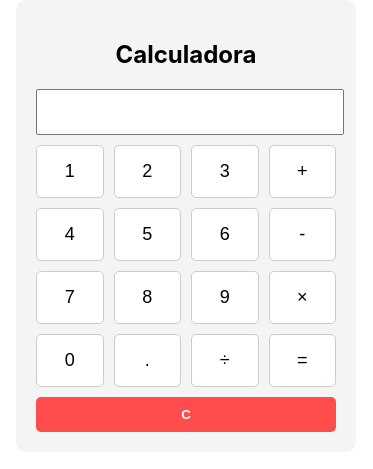
Scenario: Componente Calculadora › realiza suma correctamente
The image size is (373, 469).
Click the button "1": click(70, 171) [36,145,104,198]
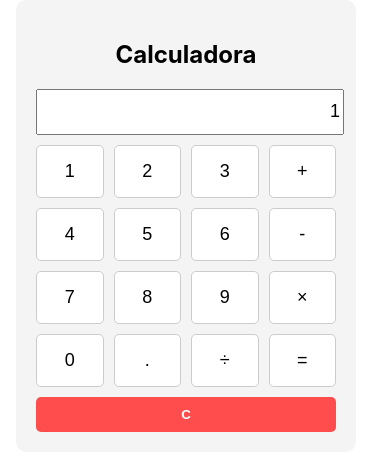
Click the button "+": click(302, 171) [268,145,336,198]
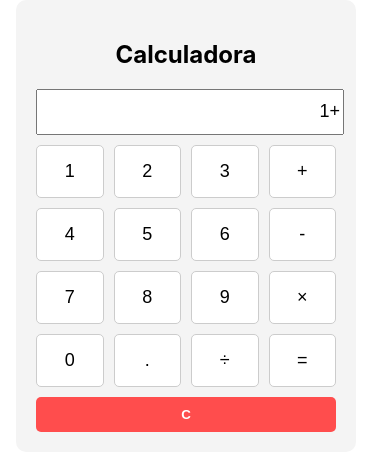
Click the button "2": click(147, 171) [114,145,181,198]
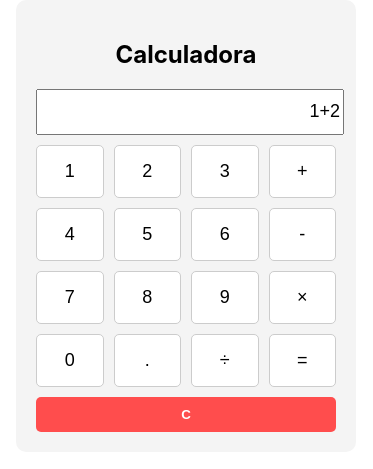
Click the button "=": click(302, 360) [268,334,336,387]
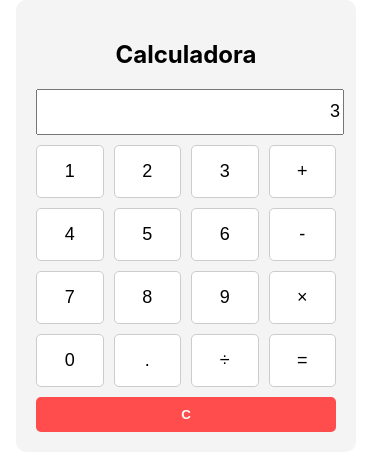
Expected: the field holds "3", [36,89,344,135]
